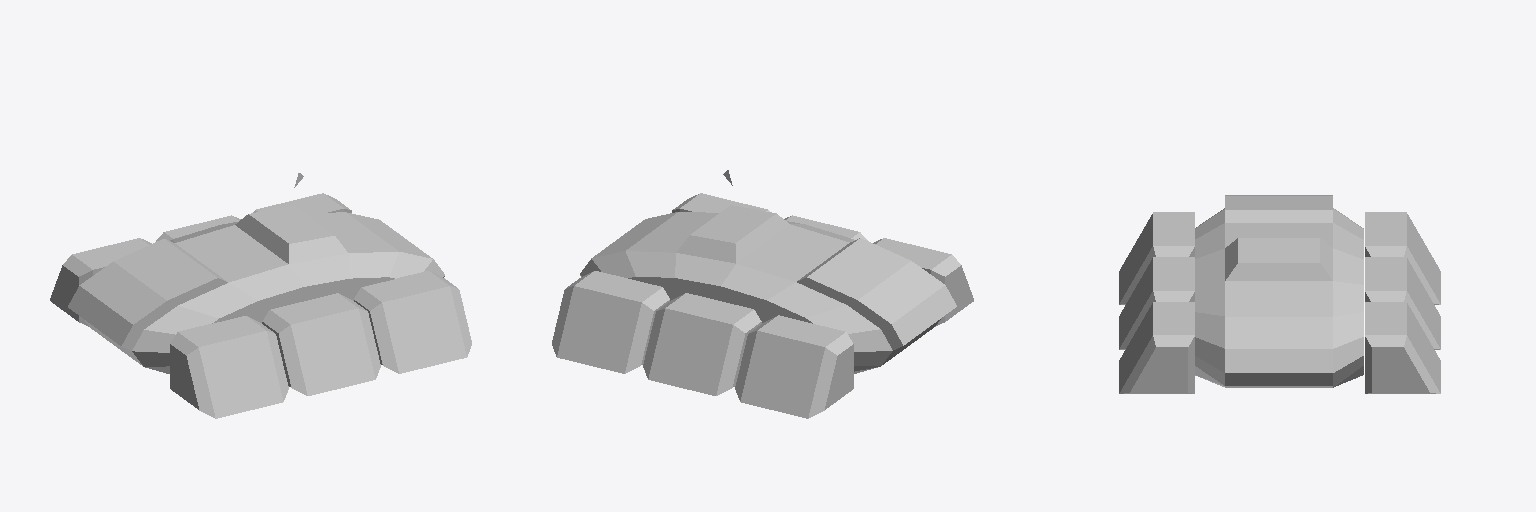
The picture shows the model from 3 angles: view 1: azimuth 30°, elevation 25°; view 2: azimuth 150°, elevation 25°; view 3: azimuth 270°, elevation 25°; orthographic projection.
Visible parts, largest first — view 1: cube1_sep21, cube1_sep18, cube1_sep19, cube1_sep20, cube1_sep15, cube1_sep17, cube1_sep16; view 2: cube1_sep21, cube1_sep15, cube1_sep16, cube1_sep17, cube1_sep18, cube1_sep20, cube1_sep19; view 3: cube1_sep21, cube1_sep20, cube1_sep17, cube1_sep18, cube1_sep15, cube1_sep19, cube1_sep16.
Boxes of the visible parts, <box> form: cube1_sep21: <box>68,206,444,373</box>; cube1_sep18: <box>170,316,288,418</box>; cube1_sep19: <box>262,293,380,395</box>; cube1_sep20: <box>354,271,471,373</box>; cube1_sep15: <box>50,238,151,326</box>; cube1_sep17: <box>253,193,351,213</box>; cube1_sep16: <box>156,215,240,241</box>; cube1_sep21: <box>580,205,956,373</box>; cube1_sep15: <box>735,315,853,418</box>; cube1_sep16: <box>643,293,761,395</box>; cube1_sep17: <box>552,271,669,373</box>; cube1_sep18: <box>873,238,973,326</box>; cube1_sep20: <box>672,193,769,212</box>; cube1_sep19: <box>784,215,867,240</box>; cube1_sep21: <box>1195,195,1363,387</box>; cube1_sep20: <box>1119,302,1194,393</box>; cube1_sep17: <box>1365,302,1440,393</box>; cube1_sep18: <box>1119,212,1194,304</box>; cube1_sep15: <box>1365,212,1440,304</box>; cube1_sep19: <box>1119,257,1194,349</box>; cube1_sep16: <box>1365,257,1440,349</box>.
Size of the model in its own units: 6.95 by 3.08 by 5.98.